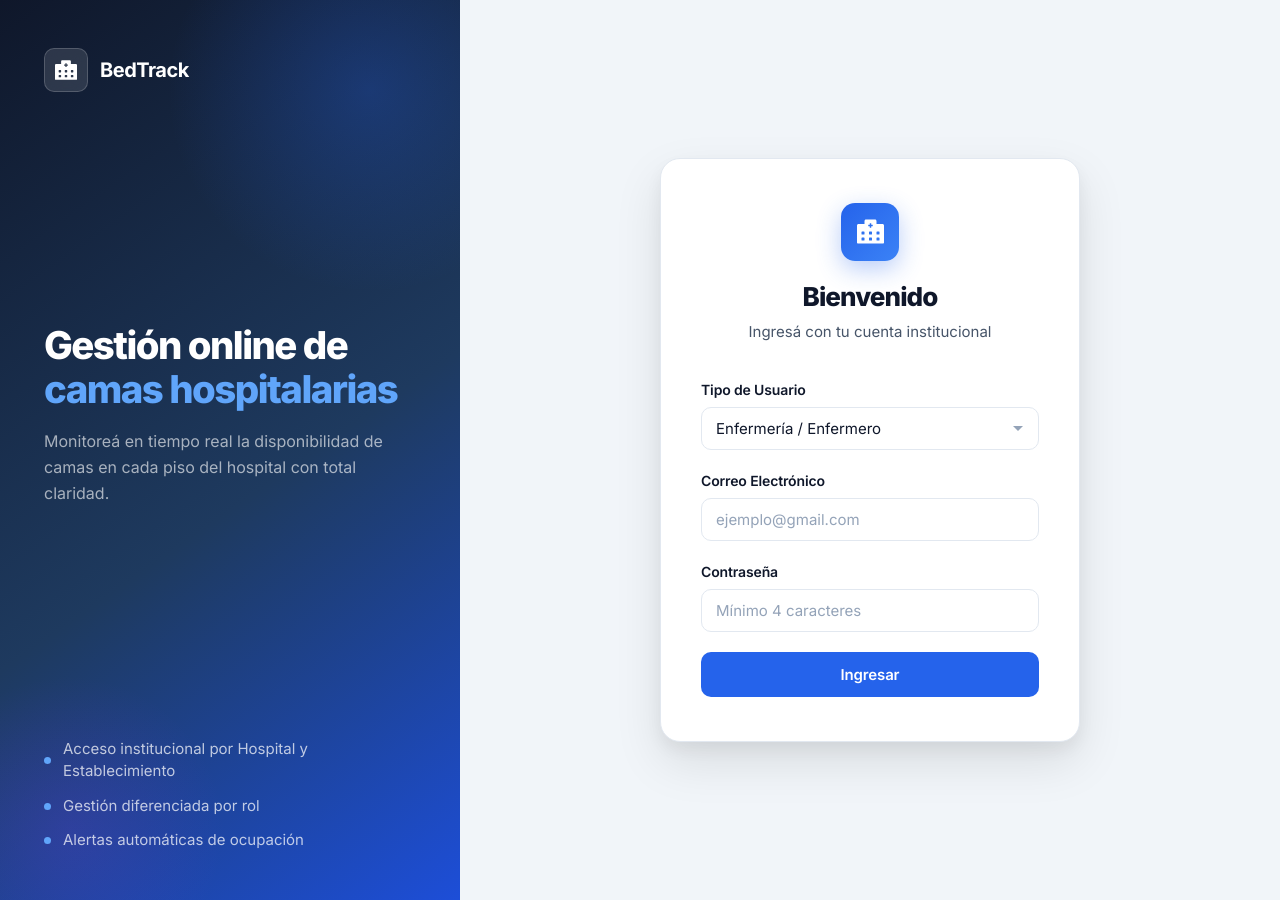
Test: Componente Login › Caso 5: valida que la contraseña tenga al menos 4 caracteres
Type "usuario@gmail.com" into the field labelled "Correo Electrónico" at (870, 520), box [701,498,1039,541]
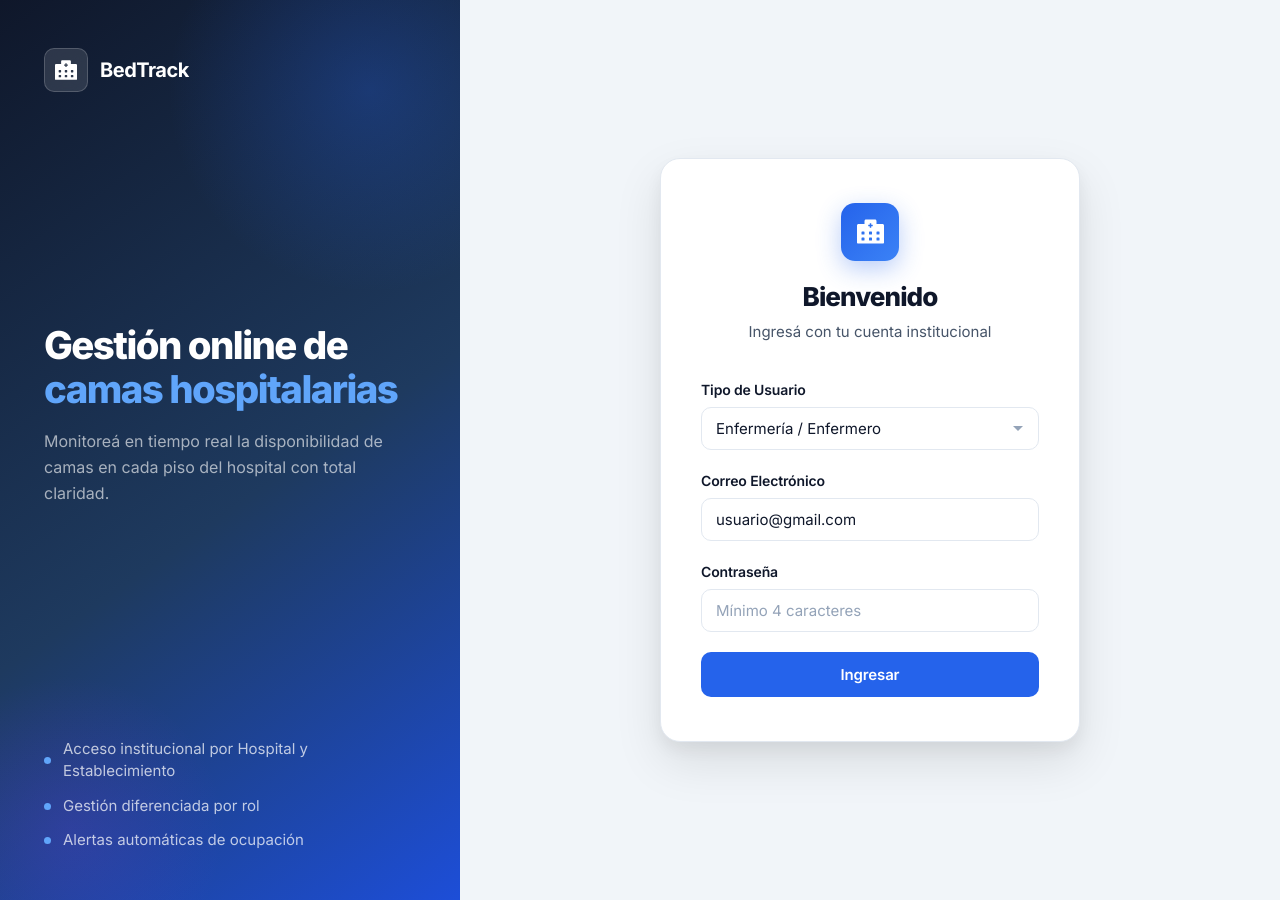
Type "123" into the password field labelled "Contraseña" at (870, 611), box [701,589,1039,632]
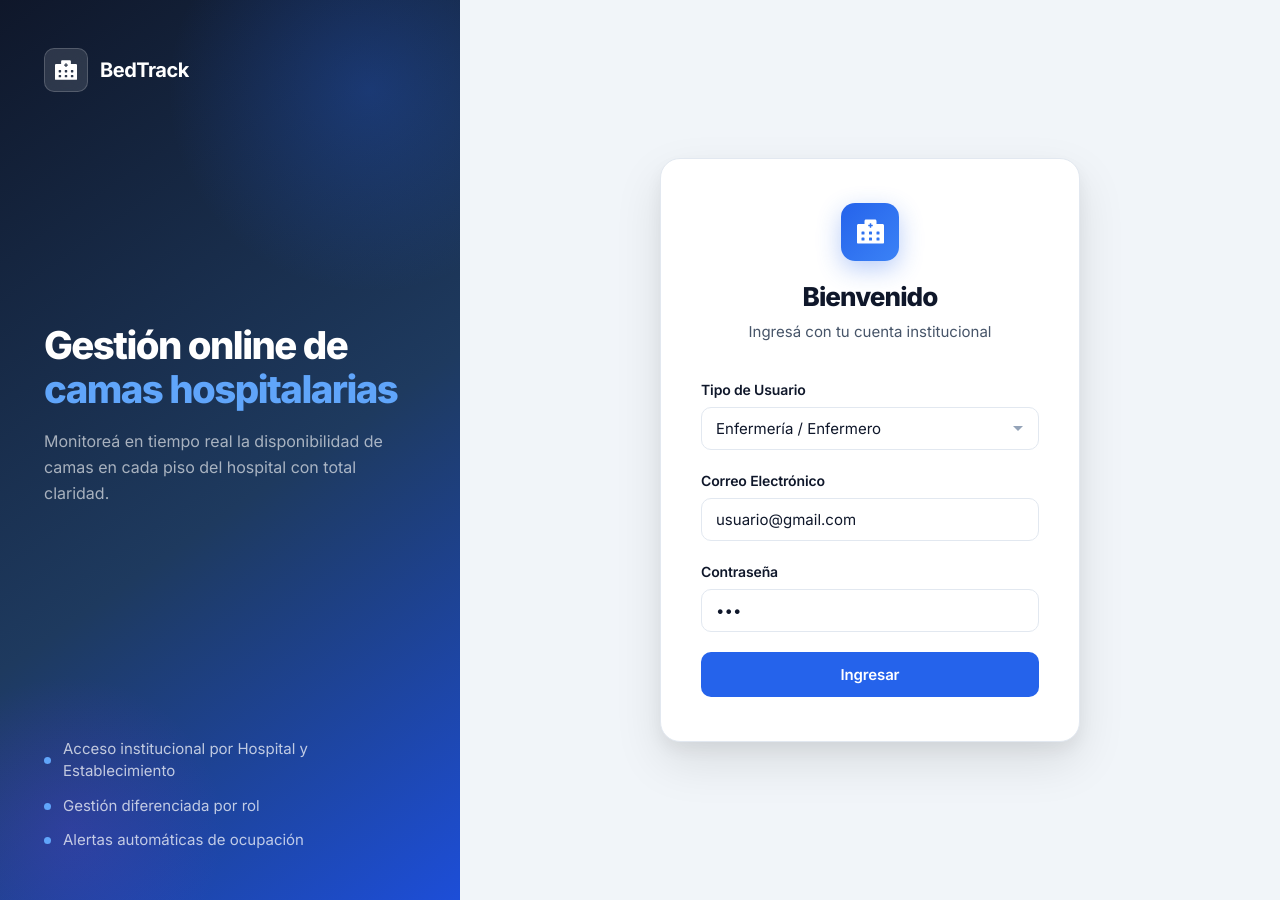
Click the button "Ingresar" at (870, 675), box [701,652,1039,697]
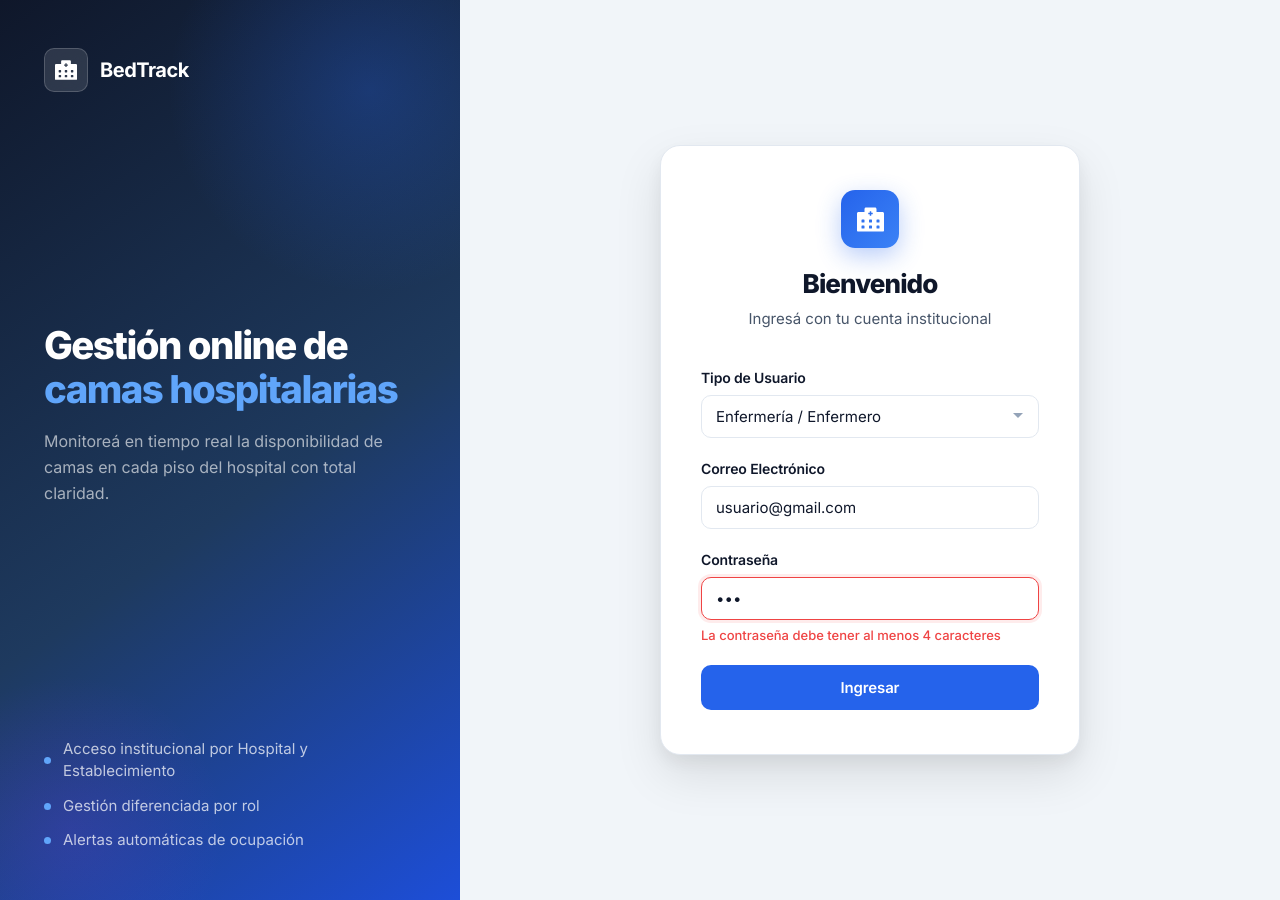
Expected: the text "La contraseña debe tener al menos 4 caracteres" is shown, [701,626,1039,645]
